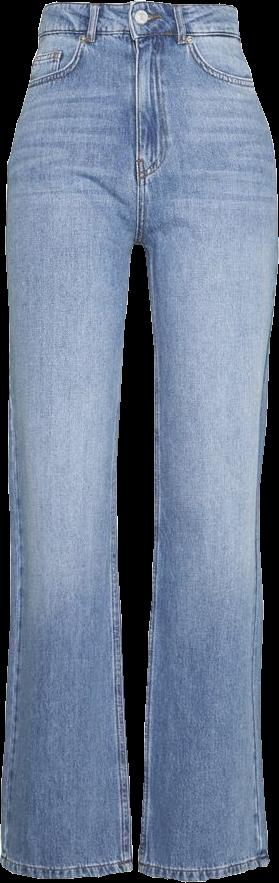Hemline: (134, 853, 272, 880), (0, 857, 133, 882)
Pantleg: (135, 0, 277, 879), (1, 1, 142, 878)
Waistline: (41, 0, 238, 17), (34, 27, 241, 43)
